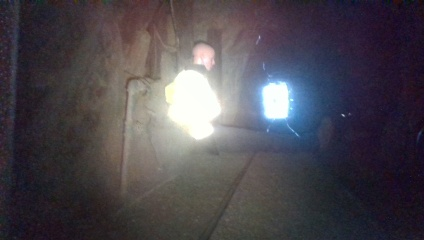manikin: (163, 42, 260, 157)
